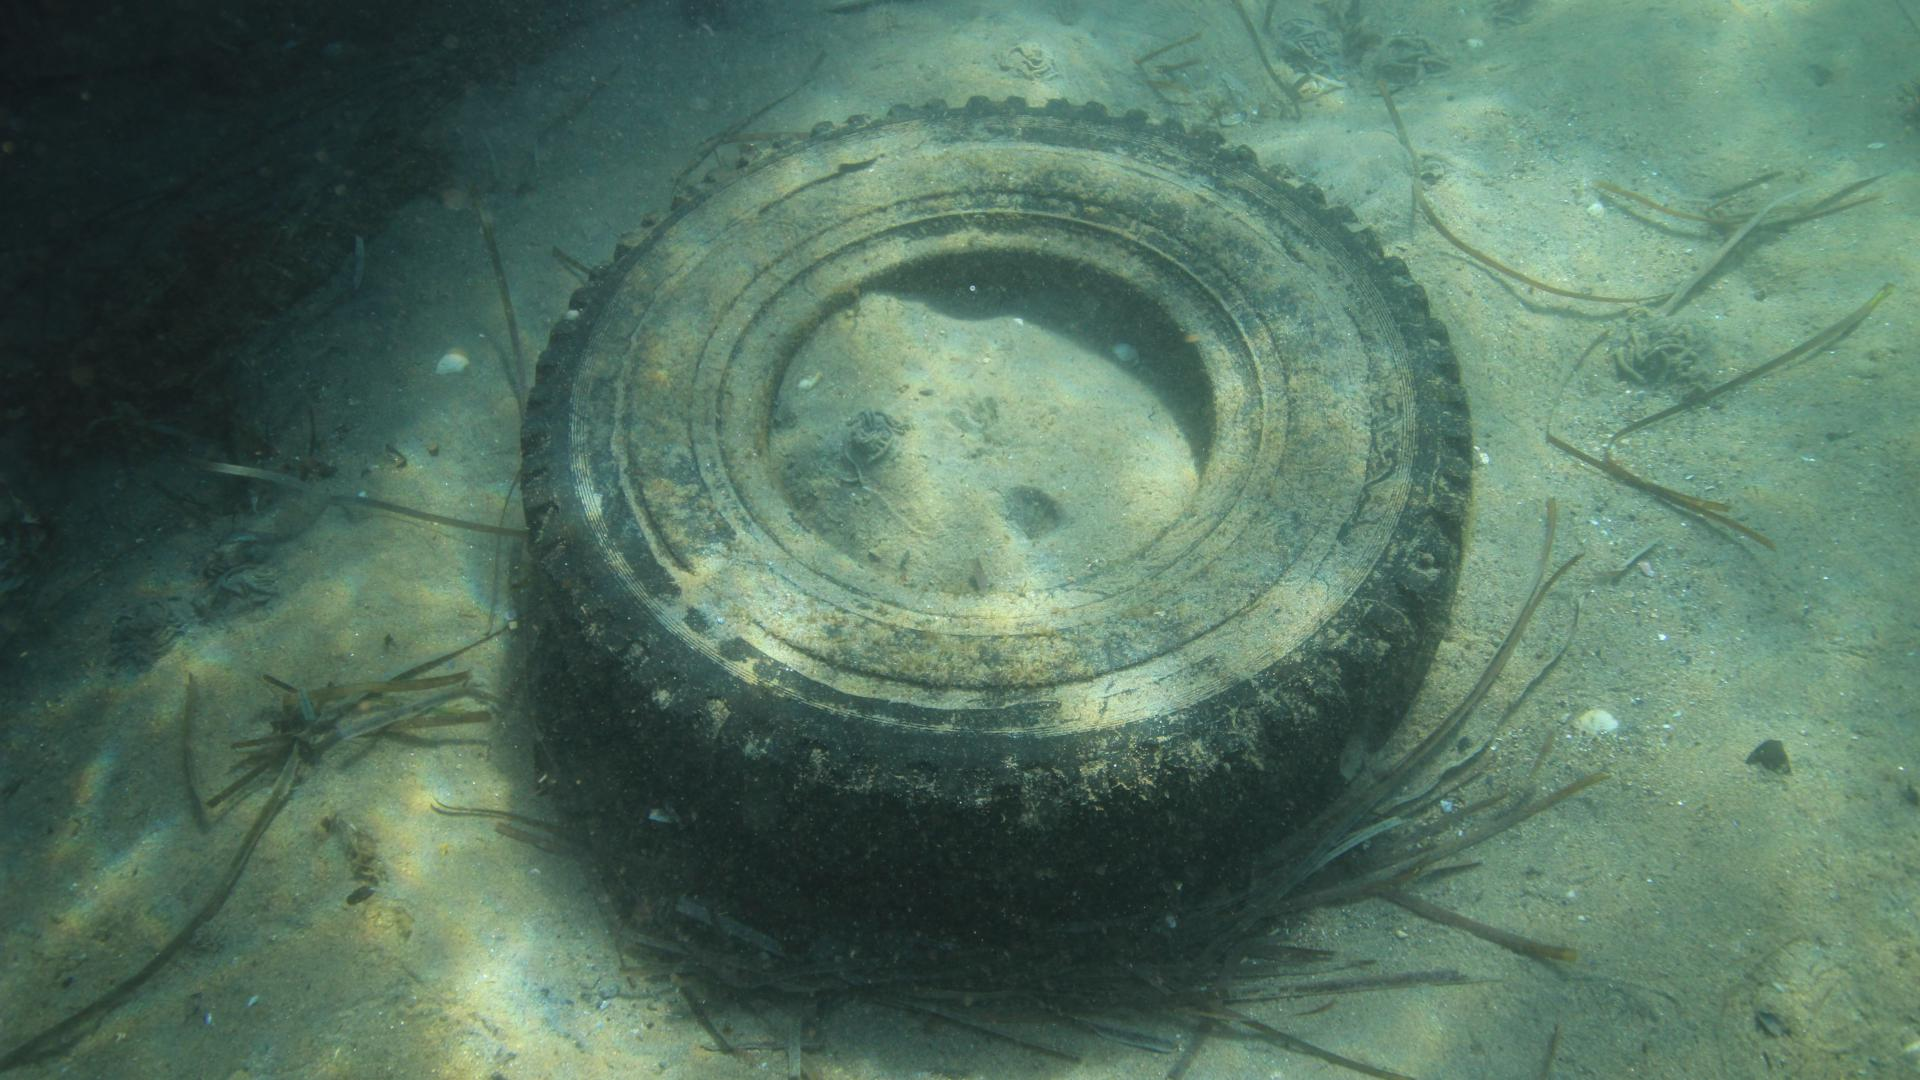tire: (517, 91, 1468, 938)
